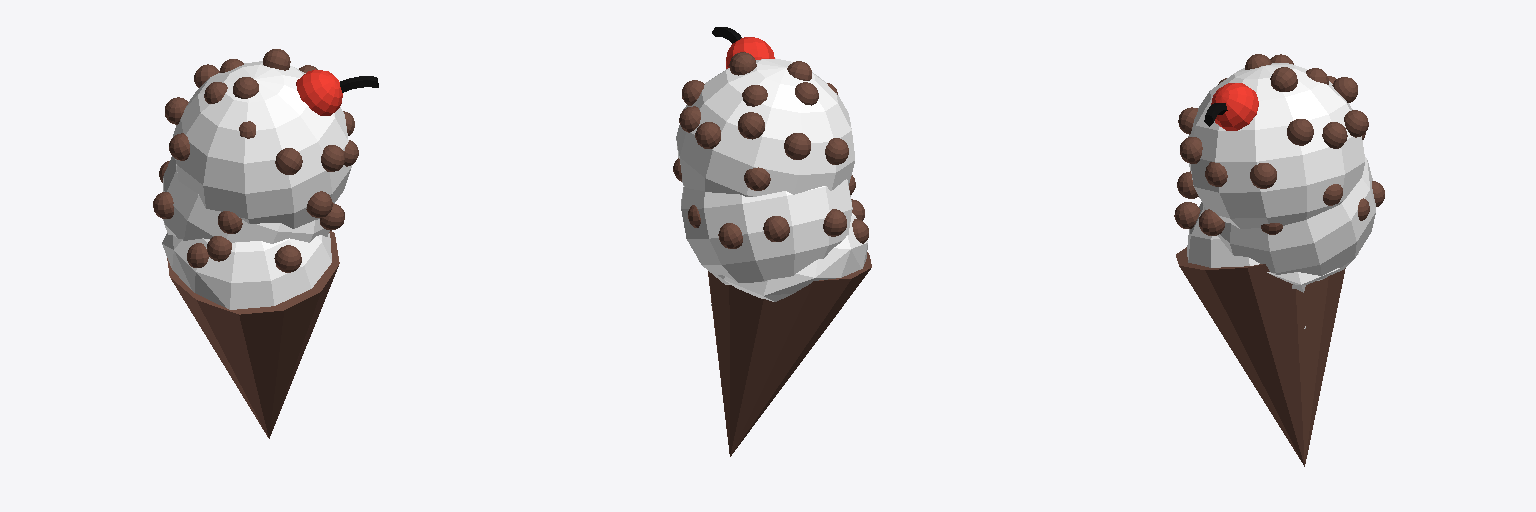
3 views of the same model, side by side, from view 1: azimuth 30°, elevation 25°; view 2: azimuth 150°, elevation 25°; view 3: azimuth 270°, elevation 25° (orthographic).
Visible parts, largest first — view 1: group[number redacted], group[number redacted], group[number redacted], group[number redacted], group[number redacted], group[number redacted], group[number redacted], group[number redacted], group[number redacted]; view 2: group[number redacted], group[number redacted], group[number redacted], group[number redacted], group[number redacted], group[number redacted], group[number redacted], group[number redacted], group[number redacted]; view 3: group[number redacted], group[number redacted], group[number redacted], group[number redacted], group[number redacted], group[number redacted], group[number redacted], group[number redacted], group[number redacted], group[number redacted].
Part boxes in pixels (x1,y1,x2,y2): group[number redacted]: (173, 61, 351, 228); group[number redacted]: (167, 231, 339, 438); group[number redacted]: (162, 233, 331, 309); group[number redacted]: (163, 156, 329, 243); group[number redacted]: (296, 69, 342, 115); group[number redacted]: (274, 245, 301, 272); group[number redacted]: (275, 148, 302, 174); group[number redacted]: (306, 191, 332, 217); group[number redacted]: (321, 145, 345, 171); group[number redacted]: (676, 58, 854, 196); group[number redacted]: (708, 252, 871, 456); group[number redacted]: (681, 179, 852, 284); group[number redacted]: (699, 213, 867, 305); group[number redacted]: (726, 37, 774, 68); group[number redacted]: (784, 133, 810, 159); group[number redacted]: (738, 112, 764, 139); group[number redacted]: (763, 216, 789, 241); group[number redacted]: (695, 122, 720, 148); group[number redacted]: (1188, 63, 1364, 228); group[number redacted]: (1176, 247, 1345, 466); group[number redacted]: (1203, 157, 1375, 280); group[number redacted]: (1187, 202, 1358, 328); group[number redacted]: (1211, 83, 1258, 130); group[number redacted]: (1287, 119, 1313, 145); group[number redacted]: (1250, 163, 1276, 188); group[number redacted]: (1270, 67, 1297, 91); group[number redacted]: (1174, 202, 1200, 228); group[number redacted]: (1322, 122, 1347, 148).
Size of the model in its own units: 0.8142 by 1.73 by 0.8324.